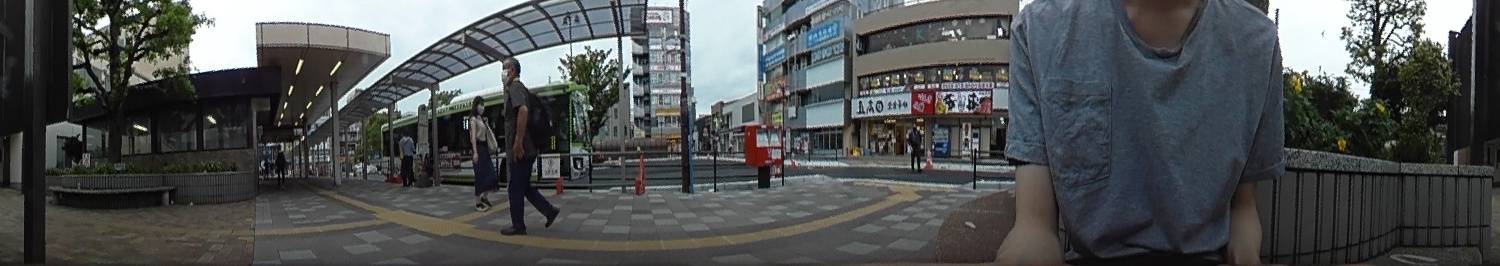difficult_person: (907, 126, 924, 172), (274, 143, 286, 185)
person: (496, 55, 559, 234), (466, 96, 498, 210), (396, 128, 415, 187)
